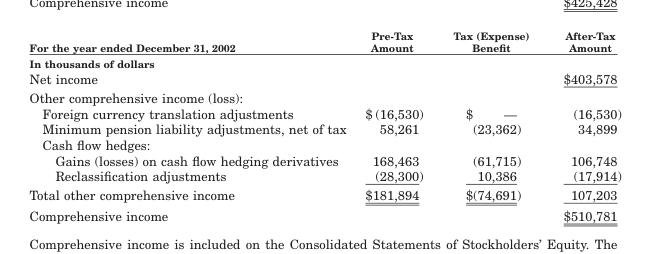table: (28, 28, 620, 223)
table column: (28, 28, 355, 223), (437, 28, 545, 223), (355, 28, 437, 223), (545, 28, 620, 223)
table column header: (28, 28, 620, 55)
table projected row header: (28, 87, 620, 105), (28, 136, 620, 152), (28, 55, 620, 70)
table row: (28, 28, 620, 55), (28, 185, 620, 205), (28, 87, 620, 105), (28, 167, 620, 185), (28, 205, 620, 223), (28, 70, 620, 87), (28, 120, 620, 136), (28, 136, 620, 152), (28, 55, 620, 70), (28, 105, 620, 120), (28, 152, 620, 167)
